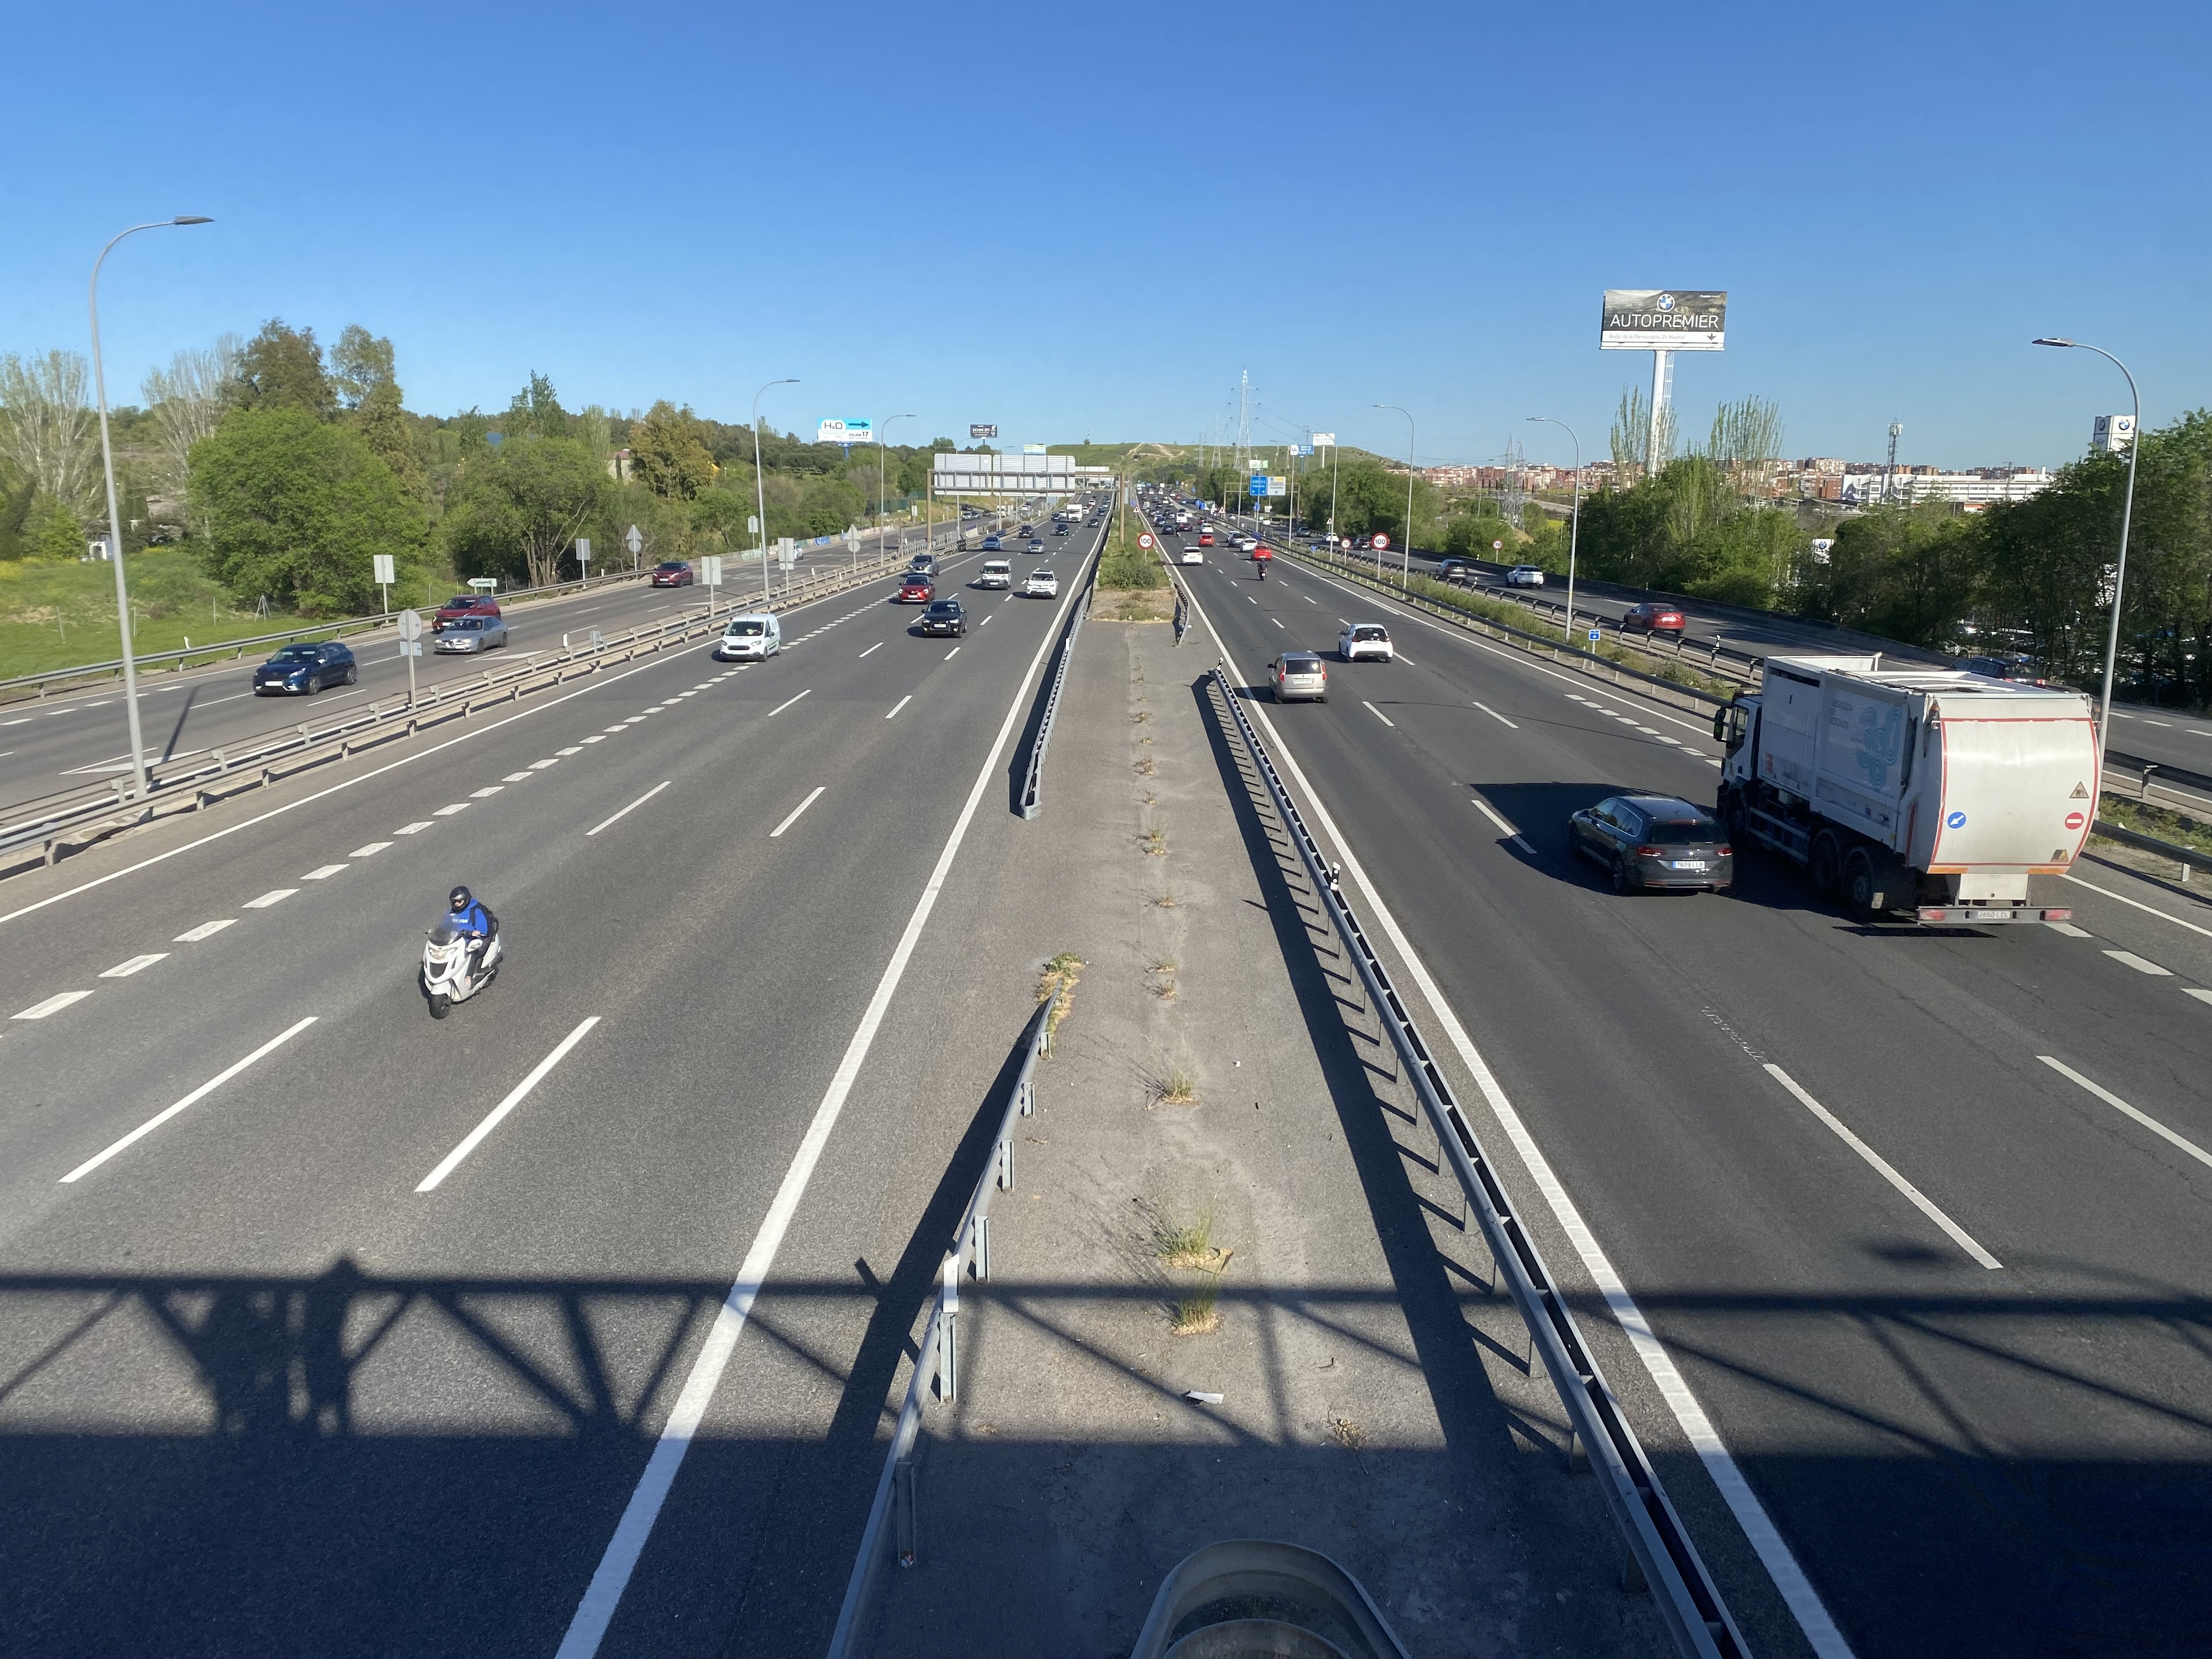cars: (1570, 795, 1733, 893), (253, 641, 357, 695), (713, 613, 780, 661), (434, 611, 507, 653), (1268, 652, 1325, 702), (433, 595, 499, 631), (1621, 603, 1685, 637), (909, 597, 964, 636), (1339, 623, 1393, 662), (651, 560, 695, 588), (971, 561, 1012, 590), (893, 576, 934, 604), (1025, 569, 1057, 598), (1506, 565, 1544, 589), (910, 552, 939, 575), (1235, 537, 1258, 557), (1181, 548, 1204, 565), (982, 533, 1001, 551), (1199, 527, 1215, 546), (1026, 537, 1044, 554)
